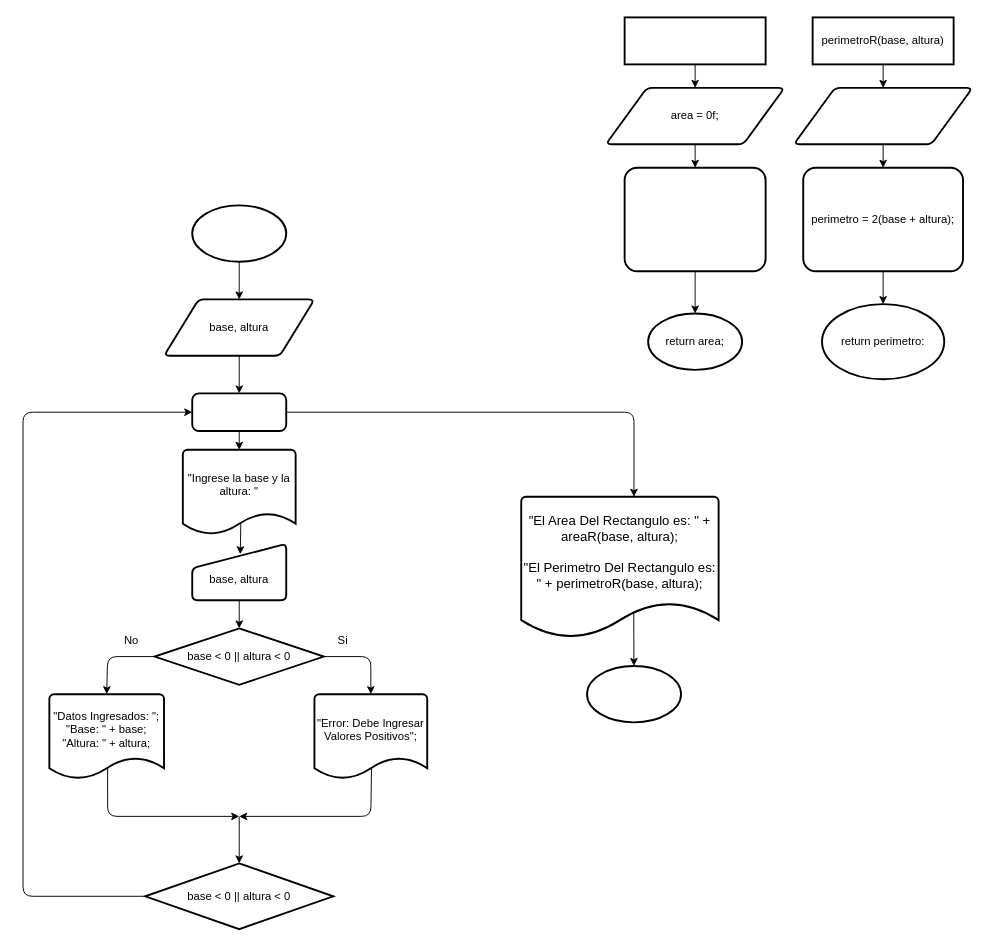
Image size: 990x946. Some labels were removed from this diagram. Here are the shapes that lost their labels. From the top down, the centre of each, then its label:
At pixel 694 40: "areaR(base, altura)".
At pixel 882 115: "perimetro = 0f;".
At pixel 239 233: "Start".
At pixel 694 219: "area = base * altura;".
At pixel 239 411: "do".
At pixel 634 694: "End".
